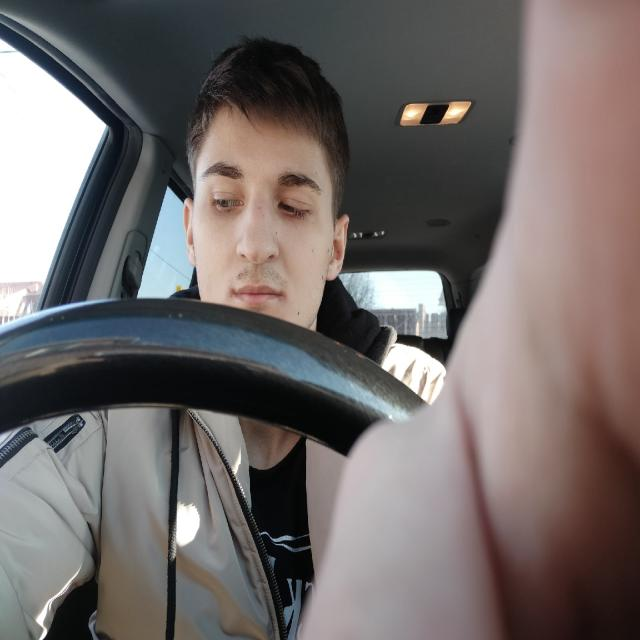Eyeclosed: (278, 198, 310, 221)
Eyeopen: (211, 193, 242, 213)
